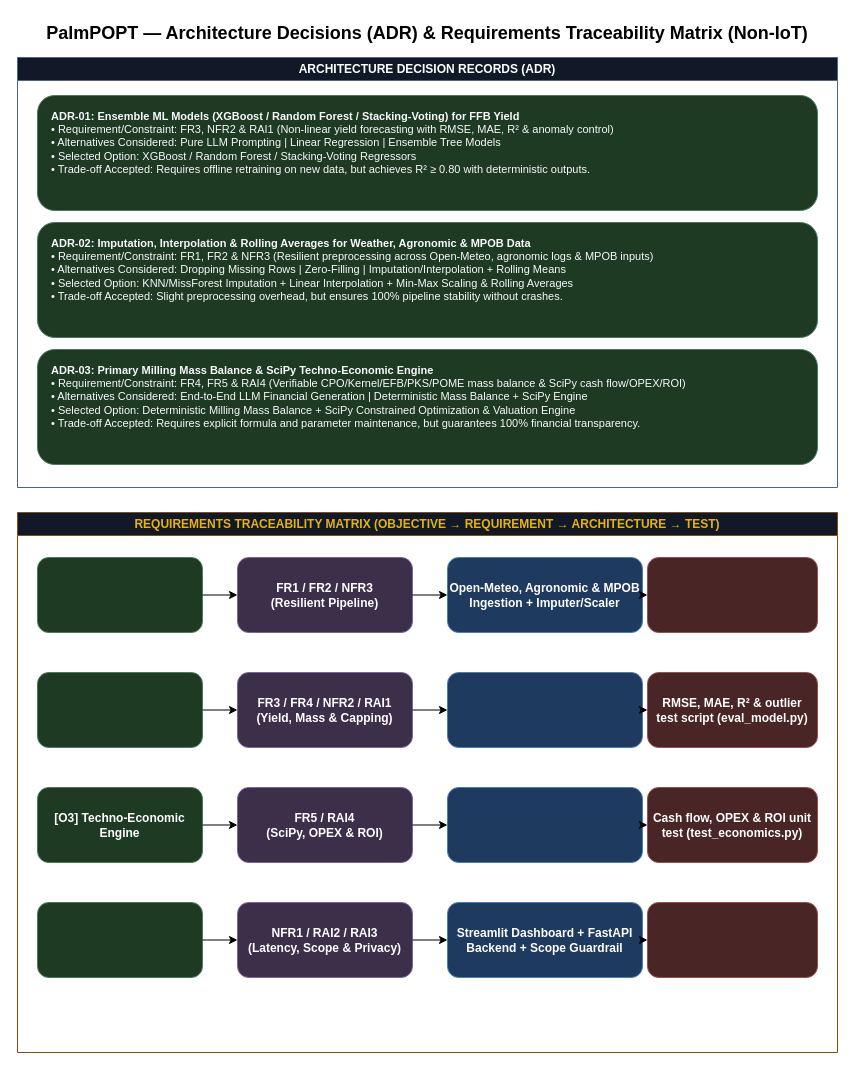
This 855x1070 diagram has some shape labels left out. Here are the shapes that lost their labels. From the top down, the centre of each, then its label:
At (x=119, y=594): "[O1] Data Ingestion & Preprocessing".
At (x=732, y=594): "Missing data & OCR/API test script (test_pipeline.py)".
At (x=119, y=710): "[O2] Yield & Mass Balance".
At (x=544, y=710): "Ensemble ML + Milling Mass Balance + IQR Guardrail".
At (x=544, y=824): "SciPy Optimization + Cash Flow & Valuation Engine".
At (x=119, y=940): "[O3] Interactive UI & API".
At (x=732, y=940): "p90 latency & guardrail test (benchmark_latency.py)".
